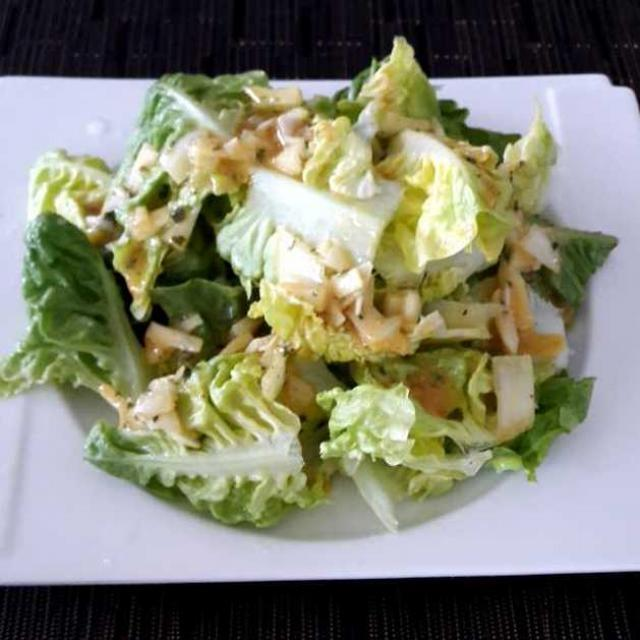onion: (109, 96, 552, 416)
salad: (20, 54, 599, 519)
